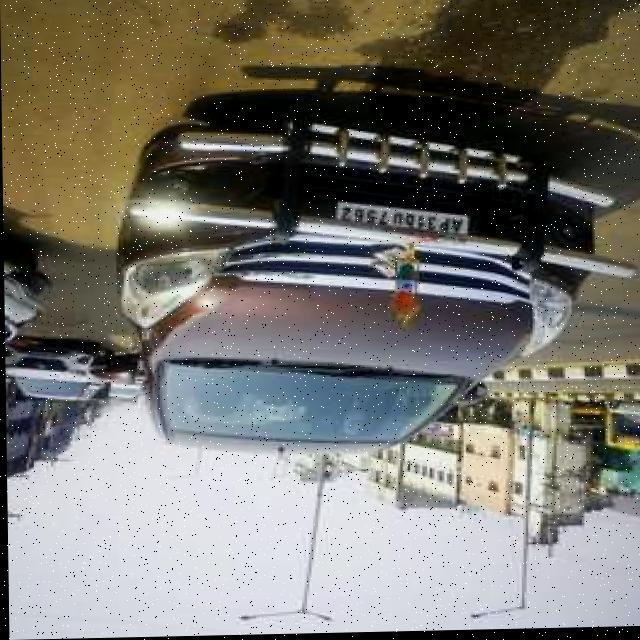plate: (336, 203, 469, 239)
